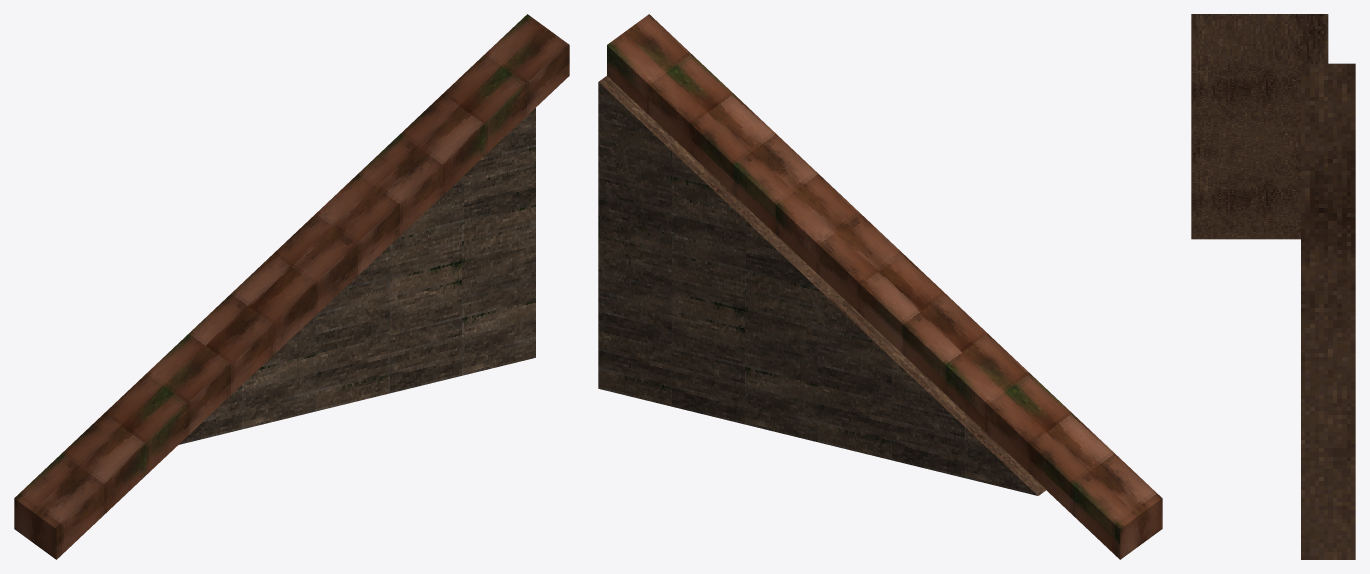
Rendered from roof_02_R.glb.
3 views of the same model, side by side, from view 1: azimuth 30°, elevation 25°; view 2: azimuth 150°, elevation 25°; view 3: azimuth 270°, elevation 25° (orthographic). The views are drawn at different scales.
Visible parts, largest first — view 1: roof_02_R2; view 2: roof_02_R2; view 3: roof_02_R2.
Part boxes in pixels (x1=…): roof_02_R2: x1=14, y1=14, x2=569, y2=559; roof_02_R2: x1=598, y1=14, x2=1162, y2=559; roof_02_R2: x1=1191, y1=14, x2=1355, y2=559.
Size of the model in its own units: 3.5 by 2.54 by 0.6.
1 material, 1 textured.
